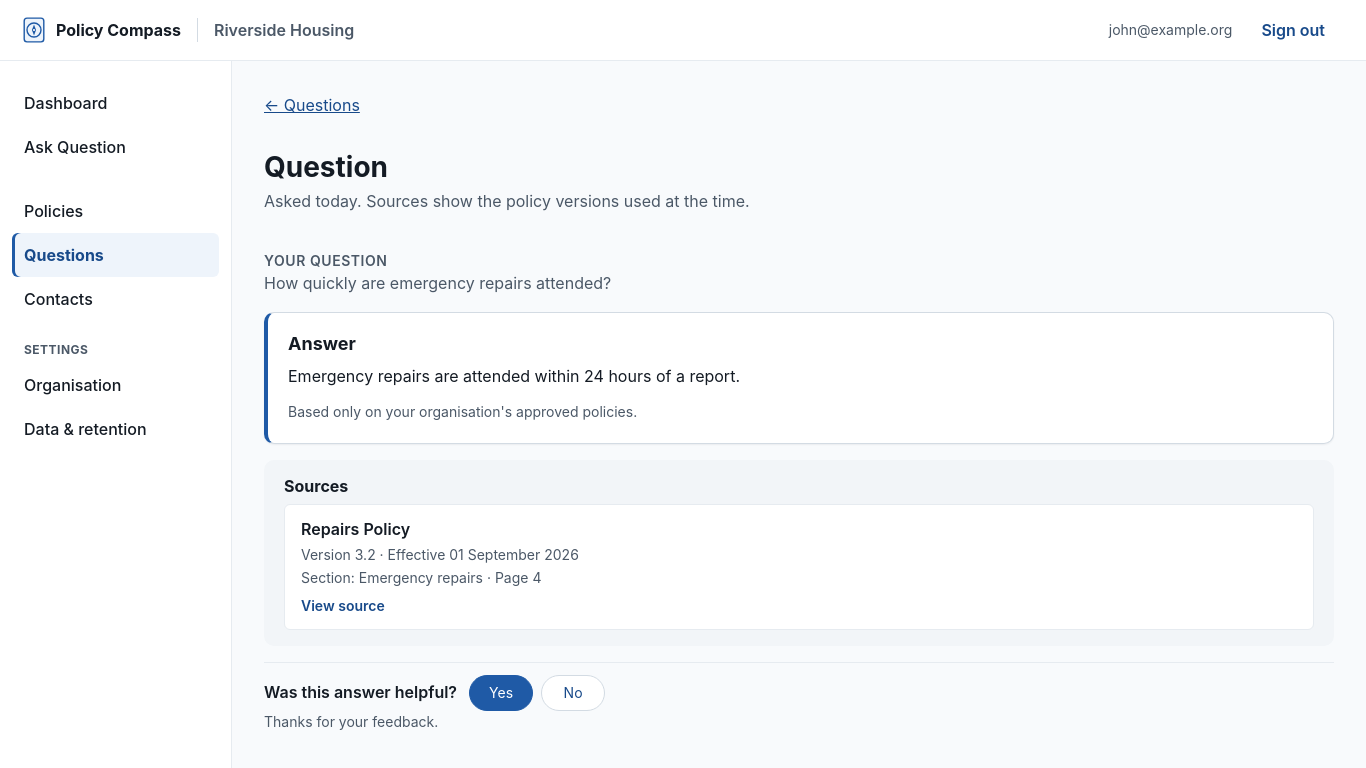
Test: Feedback (US-020) › shows feedback already given and undoes a failed save
Click the button "No".
click(573, 693)  # box [541,675,605,711]
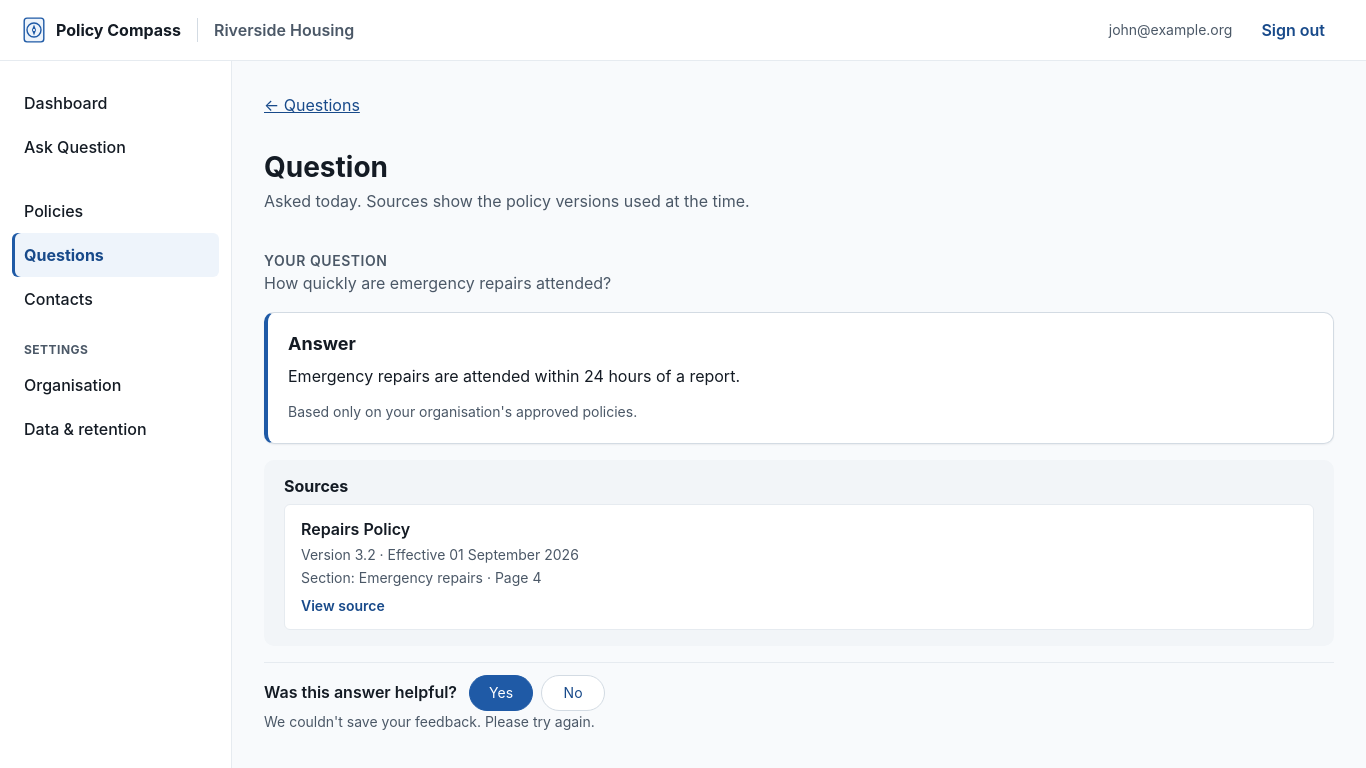
Expected: the text "We couldn't save your feedback. Please try again." is shown, [264,713,595,730]
